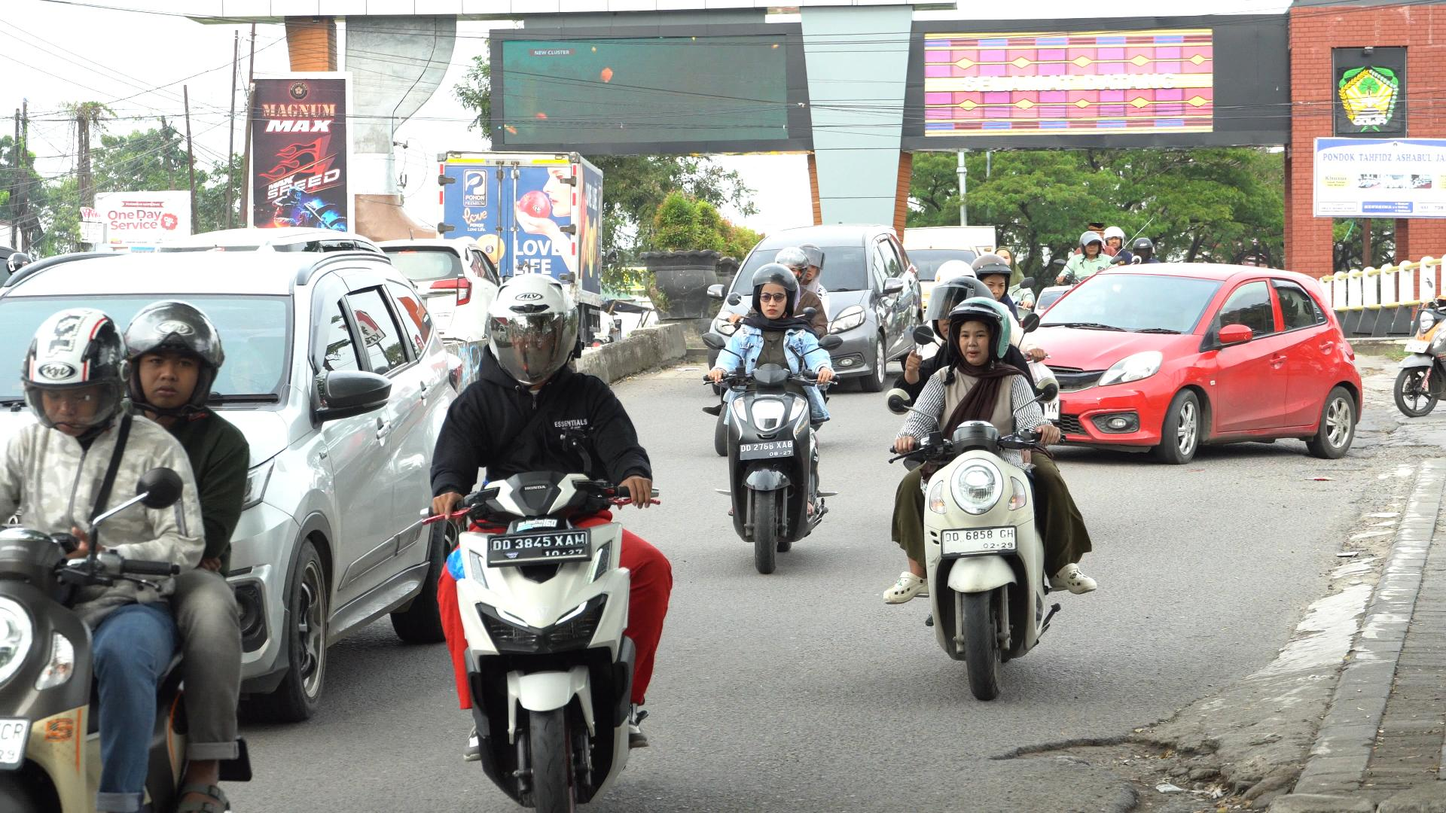number-plate: (482, 532, 592, 564), (940, 526, 1018, 553), (740, 441, 795, 463)
